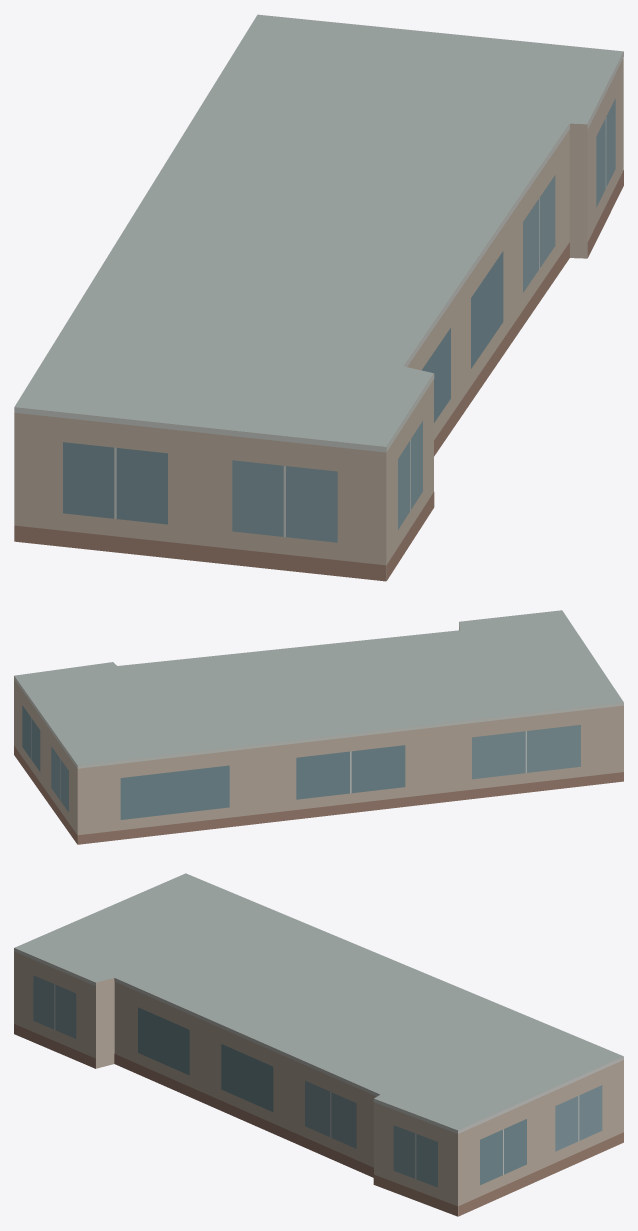
File: survey-upis-32752104.glb
3 renders of one model, top to bottom at view 1: azimuth 30°, elevation 25°; view 2: azimuth 150°, elevation 25°; view 3: azimuth 270°, elevation 25°, orthographic. The views are drawn at different scales.
Visible parts, largest first — view 1: survey-upis-32752104.tmp; view 2: survey-upis-32752104.tmp; view 3: survey-upis-32752104.tmp.
Part boxes in pixels (x1=…): survey-upis-32752104.tmp: x1=14, y1=14, x2=623, y2=581; survey-upis-32752104.tmp: x1=14, y1=610, x2=623, y2=844; survey-upis-32752104.tmp: x1=14, y1=873, x2=623, y2=1216.
Bounding box in the file's own units: 19.53 × 3.05 × 19.57.
